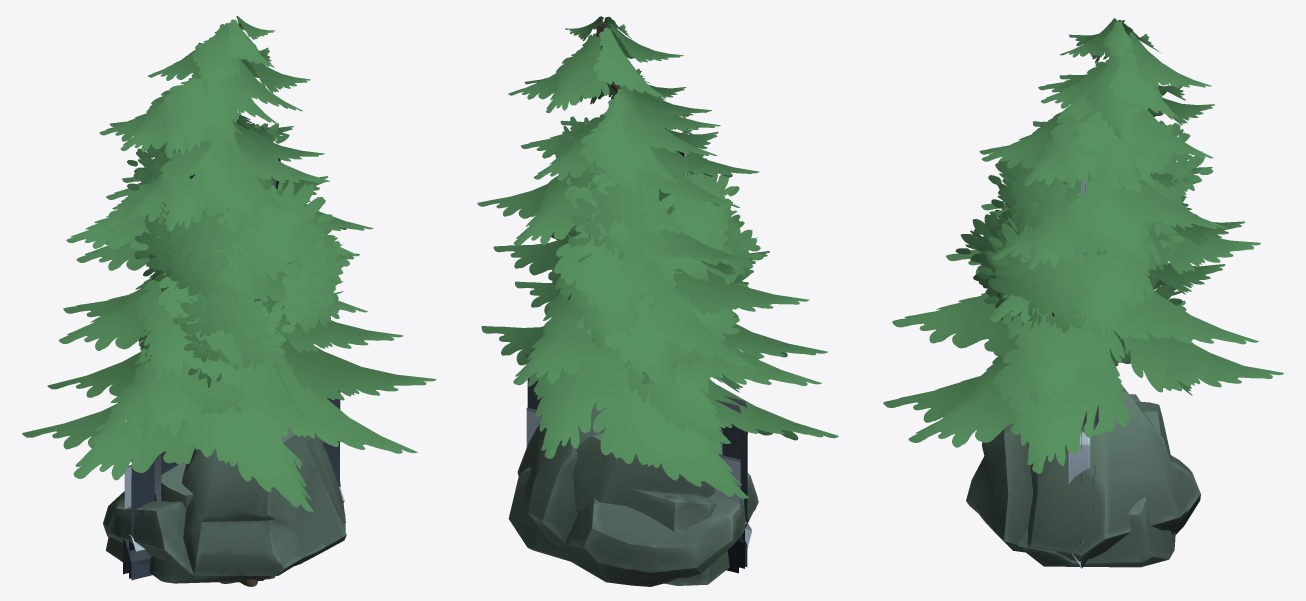
Rendered from refresh_studio_import.fbx.
3 renders of one model, left to right at view 1: azimuth 30°, elevation 25°; view 2: azimuth 150°, elevation 25°; view 3: azimuth 270°, elevation 25°, orthographic. The views are drawn at different scales.
Parts seen in each view (by area): view 1: RF_CanopyPine_00_LeafGreen, RF_CanopyOak_00_LeafGreen, RF_ReserveBoulder_00_MossRock, RF_ReserveBoulderWide_00_MossRock, RF_FoundryWall_01_DarkMetal, RF_CableHeader_01_SecondaryMetal; view 2: RF_CanopyPine_00_LeafGreen, RF_ReserveBoulder_00_MossRock, RF_CanopyOak_00_LeafGreen, RF_ReserveBoulderWide_00_MossRock, RF_CableHeader_01_SecondaryMetal, RF_FoundryWindow_02_DarkMetal, RF_FoundryWall_01_DarkMetal; view 3: RF_CanopyPine_00_LeafGreen, RF_ReserveBoulder_00_MossRock, RF_CanopyOak_00_LeafGreen, RF_ReserveBoulderWide_00_MossRock, RF_FoundryWindow_04_SecondaryMetal.
Part boxes in pixels (x1,y1,x2,y2): RF_CanopyPine_00_LeafGreen: [22, 16, 436, 511]; RF_CanopyOak_00_LeafGreen: [127, 123, 349, 387]; RF_ReserveBoulder_00_MossRock: [103, 427, 346, 575]; RF_ReserveBoulderWide_00_MossRock: [106, 462, 345, 583]; RF_FoundryWall_01_DarkMetal: [131, 391, 340, 537]; RF_CableHeader_01_SecondaryMetal: [124, 465, 344, 561]; RF_CanopyPine_00_LeafGreen: [477, 16, 838, 498]; RF_ReserveBoulder_00_MossRock: [517, 402, 758, 586]; RF_CanopyOak_00_LeafGreen: [551, 116, 763, 384]; RF_ReserveBoulderWide_00_MossRock: [508, 433, 729, 585]; RF_CableHeader_01_SecondaryMetal: [526, 408, 752, 547]; RF_FoundryWindow_02_DarkMetal: [527, 378, 741, 507]; RF_FoundryWall_01_DarkMetal: [741, 430, 748, 521]; RF_CanopyPine_00_LeafGreen: [883, 17, 1283, 473]; RF_ReserveBoulder_00_MossRock: [966, 384, 1200, 561]; RF_CanopyOak_00_LeafGreen: [955, 120, 1213, 332]; RF_ReserveBoulderWide_00_MossRock: [1018, 394, 1175, 567]; RF_FoundryWindow_04_SecondaryMetal: [1068, 405, 1098, 483].
Bounding box in the file's own units: 1693 × 2300 × 1640.
